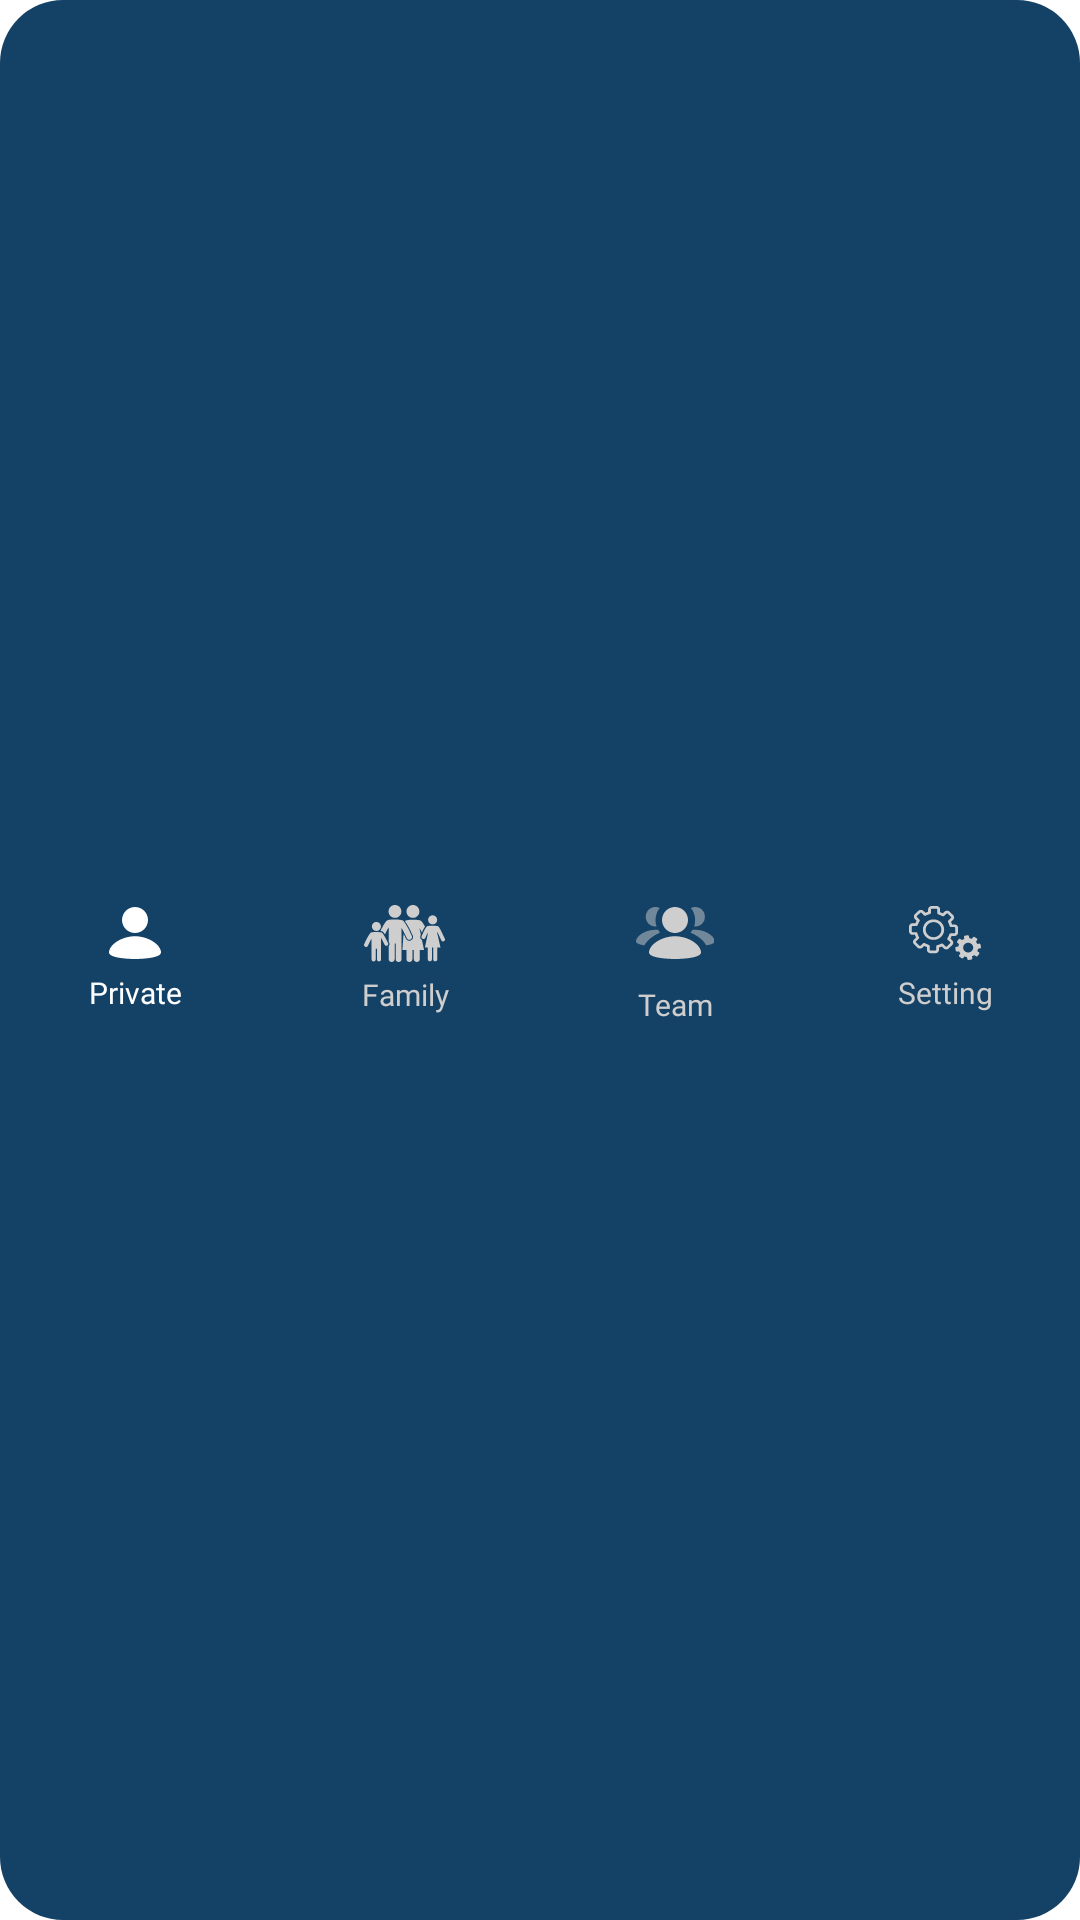

Icons on this 1080px×1920px Android screen, each with the point to tap as (x,y):
user: (135,933)
